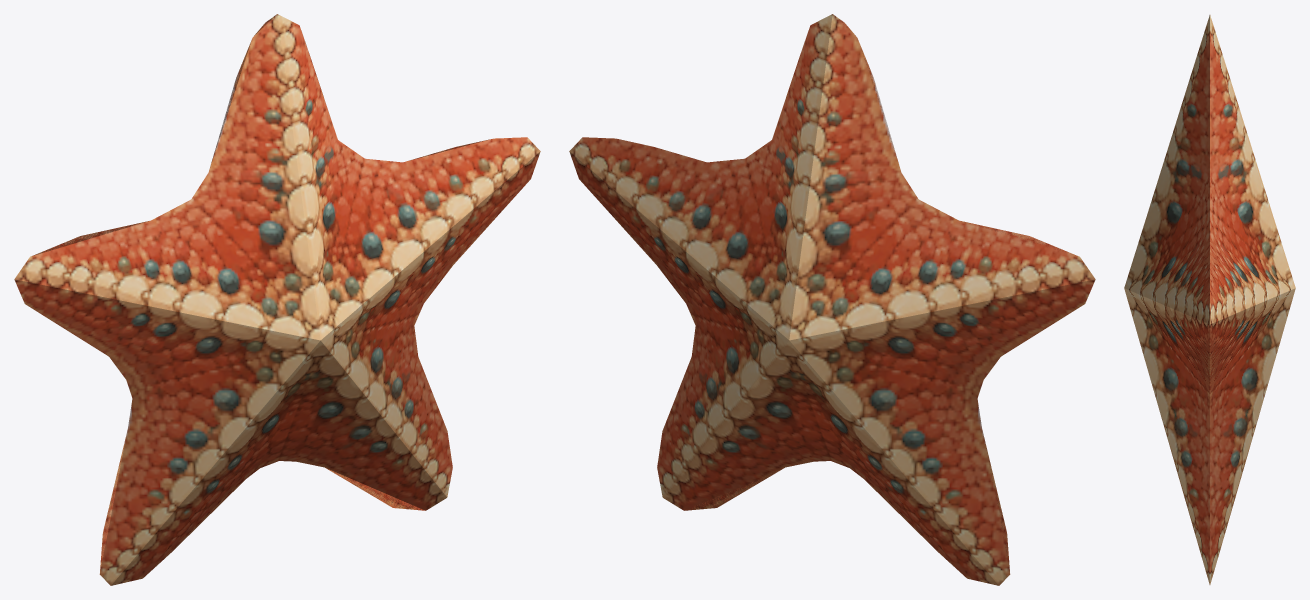
File: star_red.glb
The picture shows the model from 3 angles, left to right: view 1: azimuth 30°, elevation 25°; view 2: azimuth 150°, elevation 25°; view 3: azimuth 270°, elevation 25°; orthographic projection. The views are drawn at different scales.
Parts seen in each view (by area): view 1: red_star.001; view 2: red_star.001; view 3: red_star.001.
Boxes of the visible parts, x1,y1,x2,y2 form: red_star.001: (14, 14, 540, 585); red_star.001: (569, 14, 1095, 585); red_star.001: (1124, 15, 1295, 584).
Size of the model in its own units: 0.1752 by 0.1696 by 0.0526.
Materials: 1 (1 with a texture image).
